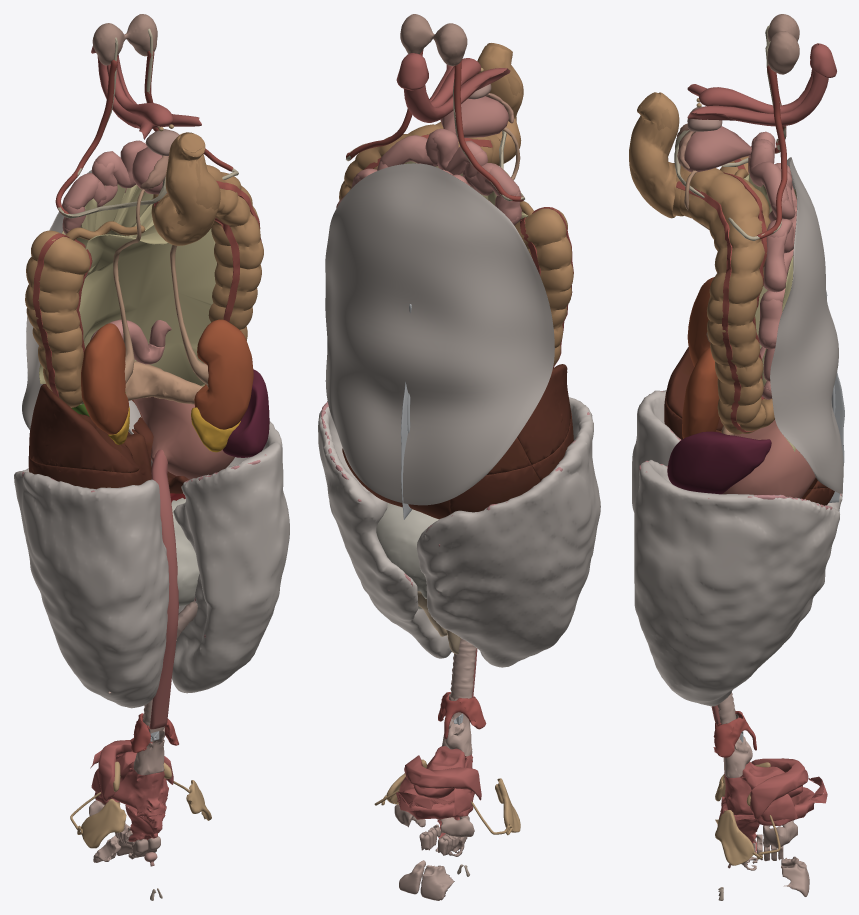
The model's file is organs.glb.
The picture shows the model from 3 angles, left to right: view 1: azimuth 30°, elevation 25°; view 2: azimuth 150°, elevation 25°; view 3: azimuth 270°, elevation 25°; orthographic projection. The views are drawn at different scales.
Parts seen in each view (by area): view 1: MOD_pleura_parietalis_r, MOD_pleura_parietalis_l, FJ3398, FJ2566, FJ2567, FJ2822, FJ3145, MOD_sigmoid_colon, FJ2564, FJ3147, FJ2563, FJ2561 (+29 smaller); view 2: MOD_peritoneum_parietale_anterius, MOD_pleura_parietalis_r, MOD_pleura_parietalis_l, FJ2566, FJ2822, MOD_pericardium, FJ2824, MOD_scrotum, MOD_sigmoid_colon, FJ3132, FJ3149, FJ1253 (+19 smaller); view 3: MOD_pleura_parietalis_l, MOD_peritoneum_parietale_anterius, FJ2567, FJ2561, MOD_sigmoid_colon, FJ2564, MOD_pleura_parietalis_r, FJ3145, FJ3132, FJ3149, FJ1253, FJ2570 (+22 smaller).
Boxes of the visible parts, bbox=[...] form: MOD_pleura_parietalis_r: bbox=[14, 468, 169, 708]; MOD_pleura_parietalis_l: bbox=[172, 421, 289, 693]; FJ3398: bbox=[79, 225, 216, 404]; FJ2566: bbox=[25, 230, 89, 407]; FJ2567: bbox=[151, 164, 263, 340]; FJ2822: bbox=[29, 384, 139, 472]; FJ3145: bbox=[194, 319, 253, 429]; MOD_sigmoid_colon: bbox=[153, 132, 220, 245]; FJ2564: bbox=[133, 397, 234, 479]; FJ3147: bbox=[81, 323, 128, 434]; FJ2563: bbox=[149, 449, 178, 729]; FJ2561: bbox=[222, 369, 269, 457]; MOD_peritoneum_parietale_anterius: bbox=[325, 163, 554, 505]; MOD_pleura_parietalis_r: bbox=[416, 397, 600, 667]; MOD_pleura_parietalis_l: bbox=[318, 401, 451, 658]; FJ2566: bbox=[514, 208, 573, 365]; FJ2822: bbox=[517, 364, 570, 464]; MOD_pericardium: bbox=[376, 502, 438, 609]; FJ2824: bbox=[450, 465, 540, 513]; MOD_scrotum: bbox=[400, 14, 467, 66]; MOD_sigmoid_colon: bbox=[477, 45, 523, 165]; FJ3132: bbox=[404, 65, 510, 122]; FJ3149: bbox=[440, 96, 508, 137]; FJ1253: bbox=[404, 755, 481, 800]; MOD_pleura_parietalis_l: bbox=[634, 460, 839, 706]; MOD_peritoneum_parietale_anterius: bbox=[770, 157, 843, 493]; FJ2567: bbox=[679, 168, 770, 434]; FJ2561: bbox=[667, 431, 771, 494]; MOD_sigmoid_colon: bbox=[629, 92, 679, 218]; FJ2564: bbox=[722, 420, 815, 498]; MOD_pleura_parietalis_r: bbox=[632, 390, 842, 512]; FJ3145: bbox=[682, 348, 719, 438]; FJ3132: bbox=[687, 70, 828, 126]; FJ3149: bbox=[684, 126, 751, 172]; FJ1253: bbox=[750, 758, 808, 819]; FJ2570: bbox=[676, 158, 755, 432].
Bounding box in the file's own units: 255 × 880 × 197.
